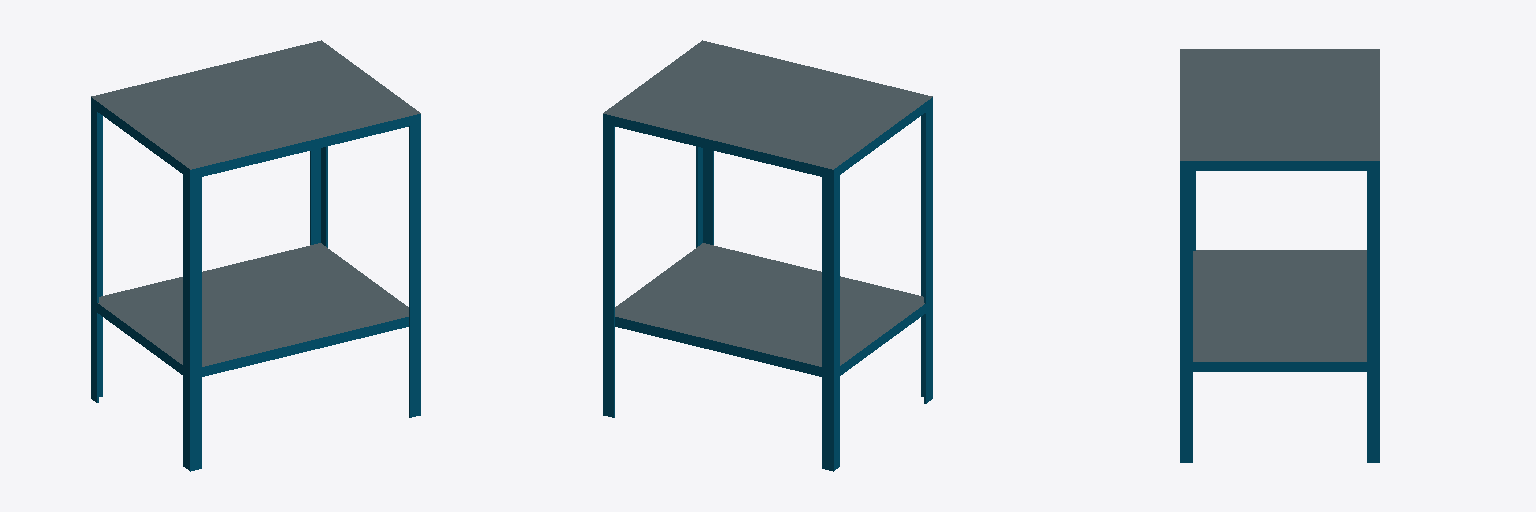
Rendered from Adjustable_Height_Work_Table.obj.
The picture shows the model from 3 angles: view 1: azimuth 30°, elevation 25°; view 2: azimuth 150°, elevation 25°; view 3: azimuth 270°, elevation 25°; orthographic projection.
Visible parts, largest first — view 1: Adjustable_Height_Work_Table_457x610x762_Untitled; view 2: Adjustable_Height_Work_Table_457x610x762_Untitled; view 3: Adjustable_Height_Work_Table_457x610x762_Untitled.
Part boxes in pixels (left/top/right/bottom): Adjustable_Height_Work_Table_457x610x762_Untitled: left=91, top=40, right=420, bottom=471; Adjustable_Height_Work_Table_457x610x762_Untitled: left=603, top=40, right=932, bottom=471; Adjustable_Height_Work_Table_457x610x762_Untitled: left=1180, top=49, right=1379, bottom=462.
Size of the model in its own units: 0.61 by 0.762 by 0.457.